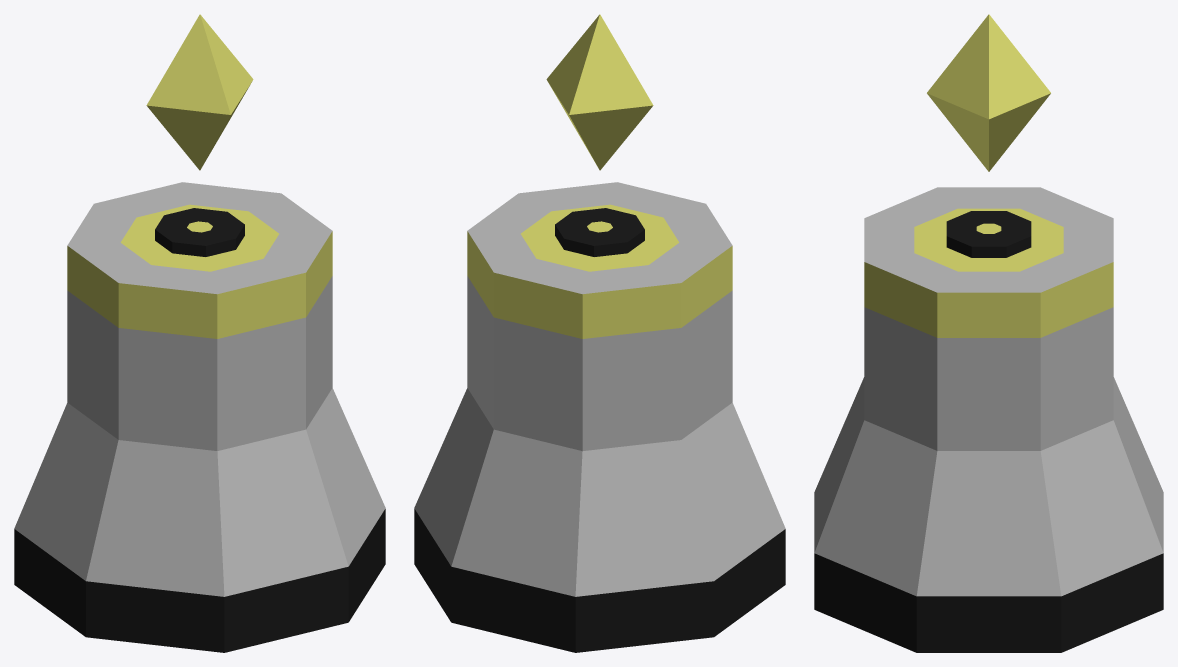
The model's file is Mages_Air.fbx.
3 renders of one model, left to right at view 1: azimuth 30°, elevation 25°; view 2: azimuth 150°, elevation 25°; view 3: azimuth 270°, elevation 25°, orthographic.
Visible parts, largest first — view 1: Mages_Air; view 2: Mages_Air; view 3: Mages_Air.
Boxes of the visible parts, left/top/right/bottom form: Mages_Air: left=14, top=14, right=385, bottom=652; Mages_Air: left=414, top=14, right=785, bottom=652; Mages_Air: left=814, top=14, right=1163, bottom=652.
Bounding box in the file's own units: 140 × 250 × 140.
